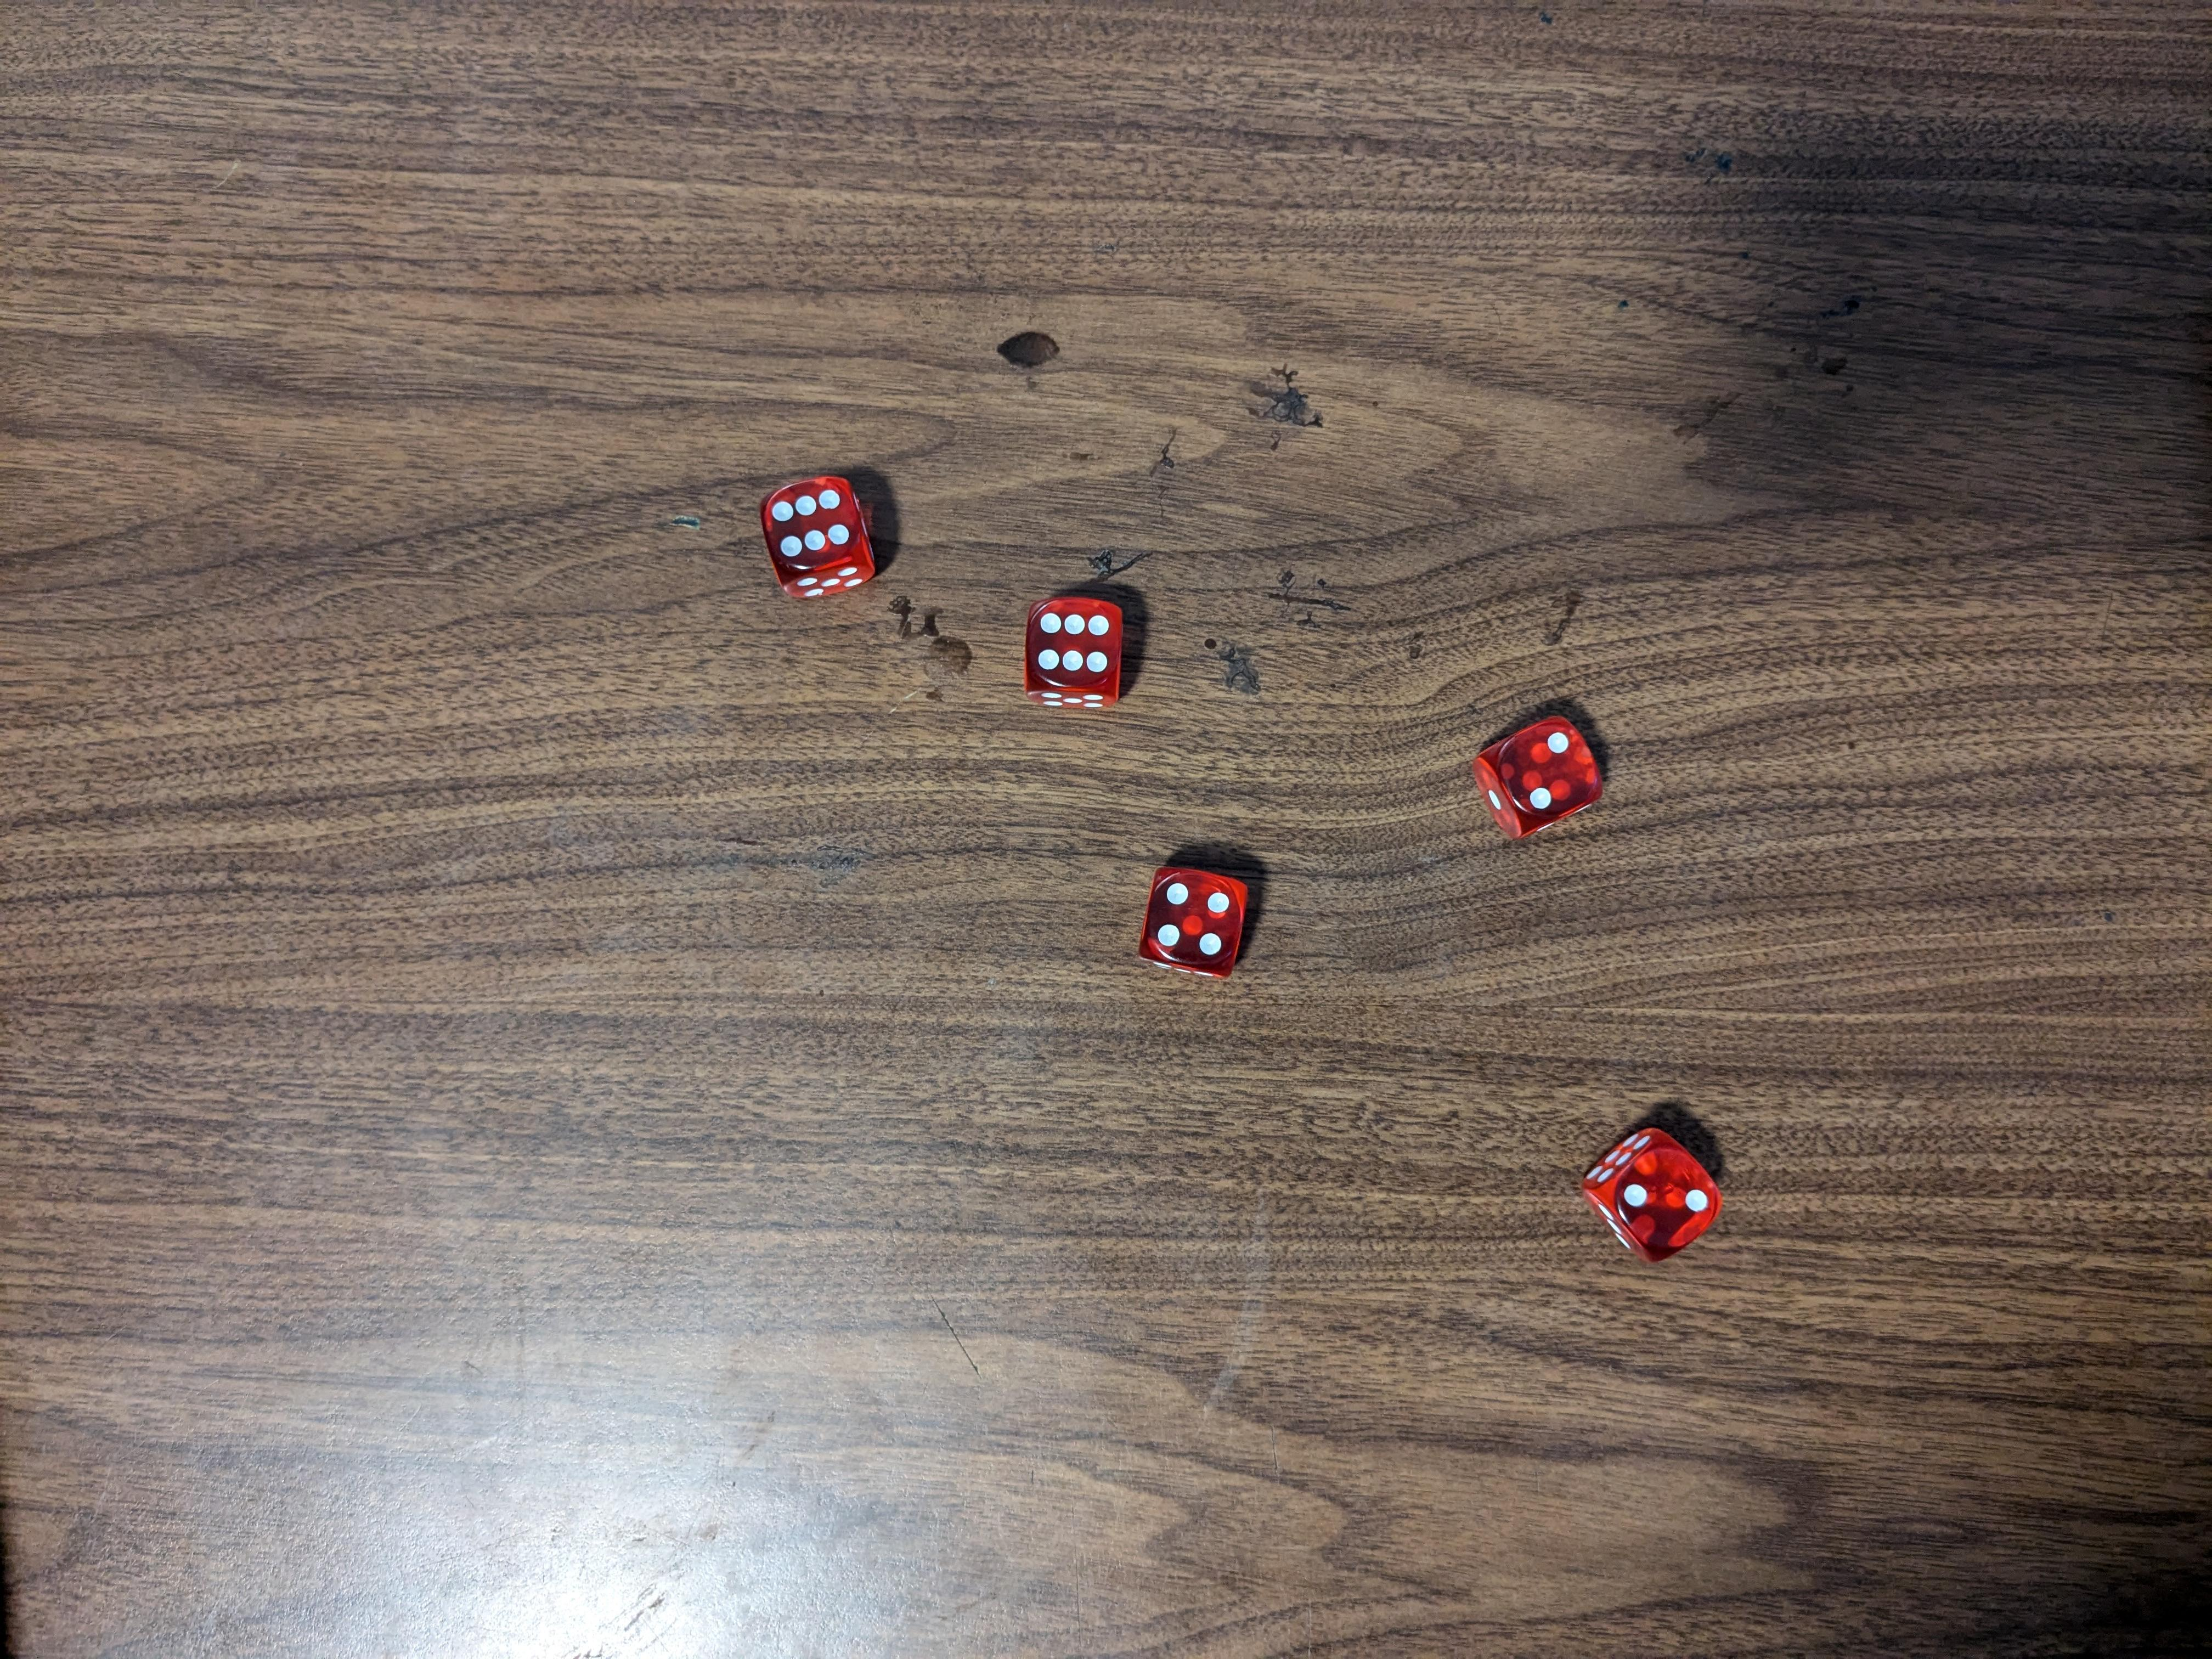four: (1137, 863, 1251, 972)
six: (756, 469, 881, 598), (1022, 587, 1127, 716)
two: (1581, 1121, 1730, 1265), (1477, 708, 1608, 828)
